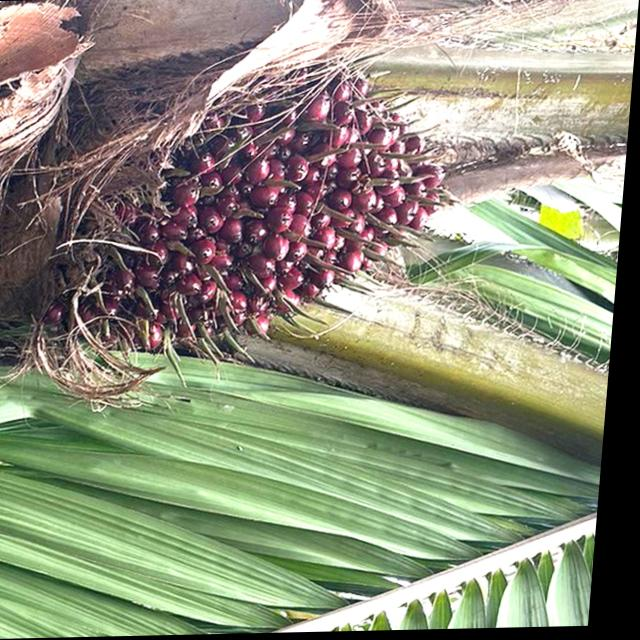ripe: (19, 33, 502, 389)
